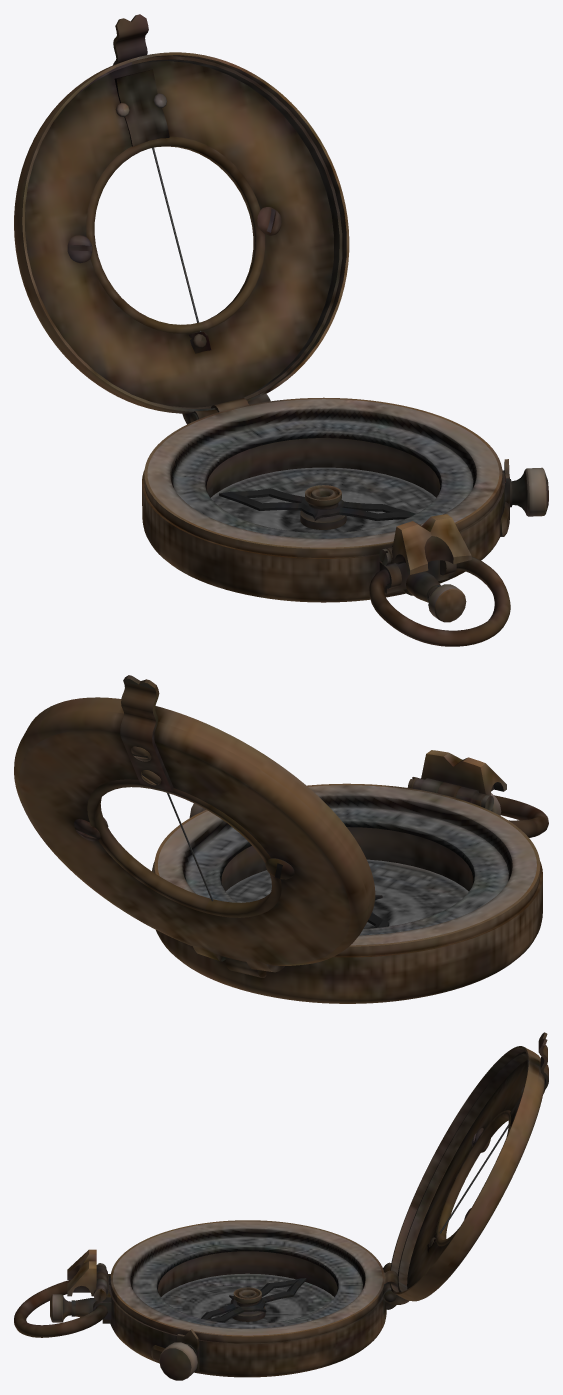
The model's file is seadogs_compass_1k.gltf.
3 views of the same model, one above another, from view 1: azimuth 30°, elevation 25°; view 2: azimuth 150°, elevation 25°; view 3: azimuth 270°, elevation 25° (orthographic). The views are drawn at different scales.
Visible parts, largest first — view 1: seadogs_compass_lid, seadogs_compass, seadogs_compass_needle; view 2: seadogs_compass_lid, seadogs_compass; view 3: seadogs_compass, seadogs_compass_lid, seadogs_compass_needle.
Boxes of the visible parts, x1=… form: seadogs_compass_lid: x1=14, y1=14, x2=349, y2=424; seadogs_compass: x1=142, y1=397, x2=548, y2=646; seadogs_compass_needle: x1=219, y1=488, x2=415, y2=520; seadogs_compass_lid: x1=14, y1=675, x2=375, y2=972; seadogs_compass: x1=152, y1=750, x2=548, y2=1003; seadogs_compass: x1=14, y1=1220, x2=397, y2=1380; seadogs_compass_lid: x1=382, y1=1032, x2=548, y2=1305; seadogs_compass_needle: x1=201, y1=1278, x2=306, y2=1322.
Size of the model in its own units: 0.0813 by 0.0866 by 0.1441.
1 material, 1 textured.
